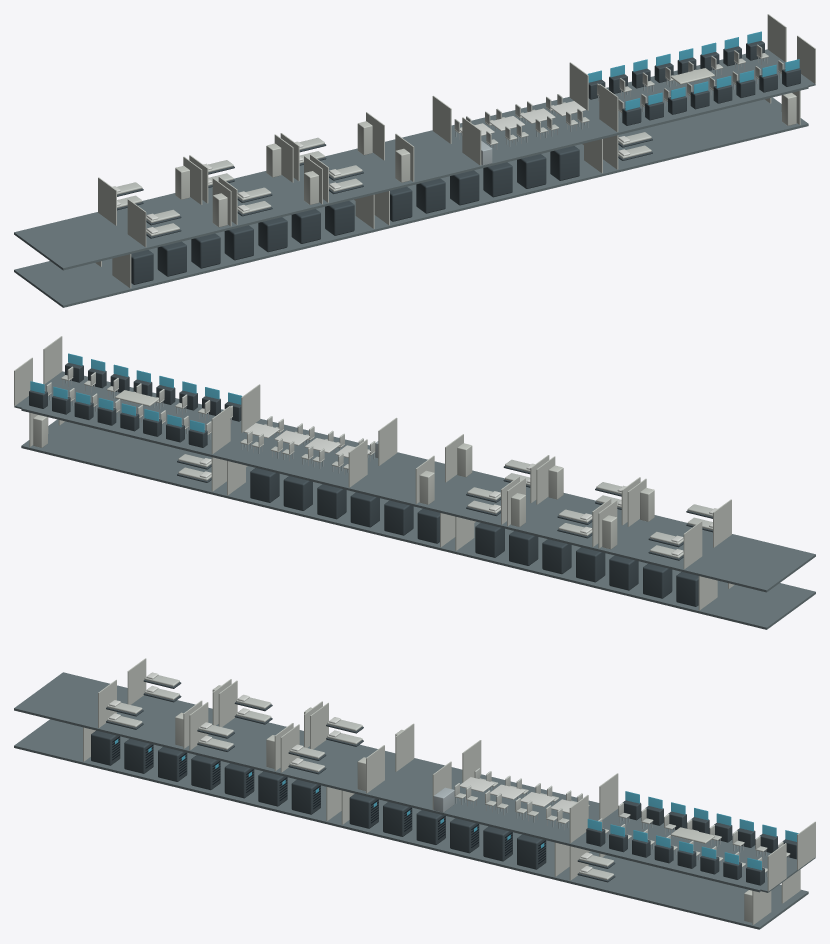
File: ATLAS_N_Interior.glb
The picture shows the model from 3 angles, top to bottom: view 1: azimuth 30°, elevation 25°; view 2: azimuth 150°, elevation 25°; view 3: azimuth 330°, elevation 25°; orthographic projection.
Parts seen in each view (by area): view 1: INT_GenericArrangement__floor, INT_GenericArrangement__darkdeck, INT_GenericArrangement__interior, INT_GenericArrangement__fabric, INT_GenericArrangement__screen, INT_GenericArrangement__white, INT_GenericArrangement__chrome; view 2: INT_GenericArrangement__floor, INT_GenericArrangement__darkdeck, INT_GenericArrangement__interior, INT_GenericArrangement__fabric, INT_GenericArrangement__screen, INT_GenericArrangement__white, INT_GenericArrangement__chrome; view 3: INT_GenericArrangement__floor, INT_GenericArrangement__darkdeck, INT_GenericArrangement__interior, INT_GenericArrangement__fabric, INT_GenericArrangement__screen, INT_GenericArrangement__white, INT_GenericArrangement__black, INT_GenericArrangement__chrome.
Part boxes in pixels (bbox=[...]): INT_GenericArrangement__floor: bbox=[14, 49, 815, 307]; INT_GenericArrangement__darkdeck: bbox=[117, 40, 800, 284]; INT_GenericArrangement__interior: bbox=[95, 14, 815, 288]; INT_GenericArrangement__fabric: bbox=[117, 44, 784, 236]; INT_GenericArrangement__screen: bbox=[587, 31, 799, 110]; INT_GenericArrangement__white: bbox=[112, 101, 630, 233]; INT_GenericArrangement__chrome: bbox=[455, 57, 780, 165]; INT_GenericArrangement__floor: bbox=[14, 371, 815, 629]; INT_GenericArrangement__darkdeck: bbox=[29, 362, 712, 606]; INT_GenericArrangement__interior: bbox=[14, 336, 734, 610]; INT_GenericArrangement__fabric: bbox=[45, 366, 712, 558]; INT_GenericArrangement__screen: bbox=[30, 353, 242, 432]; INT_GenericArrangement__white: bbox=[199, 423, 717, 555]; INT_GenericArrangement__chrome: bbox=[49, 379, 378, 474]; INT_GenericArrangement__floor: bbox=[14, 672, 815, 929]; INT_GenericArrangement__darkdeck: bbox=[91, 679, 796, 885]; INT_GenericArrangement__interior: bbox=[83, 658, 815, 924]; INT_GenericArrangement__fabric: bbox=[107, 675, 790, 880]; INT_GenericArrangement__screen: bbox=[115, 739, 798, 870]; INT_GenericArrangement__white: bbox=[109, 672, 592, 872]; INT_GenericArrangement__black: bbox=[112, 736, 545, 864]; INT_GenericArrangement__chrome: bbox=[433, 785, 789, 876].
Size of the model in its own units: 49.53 by 4.69 by 5.6.
